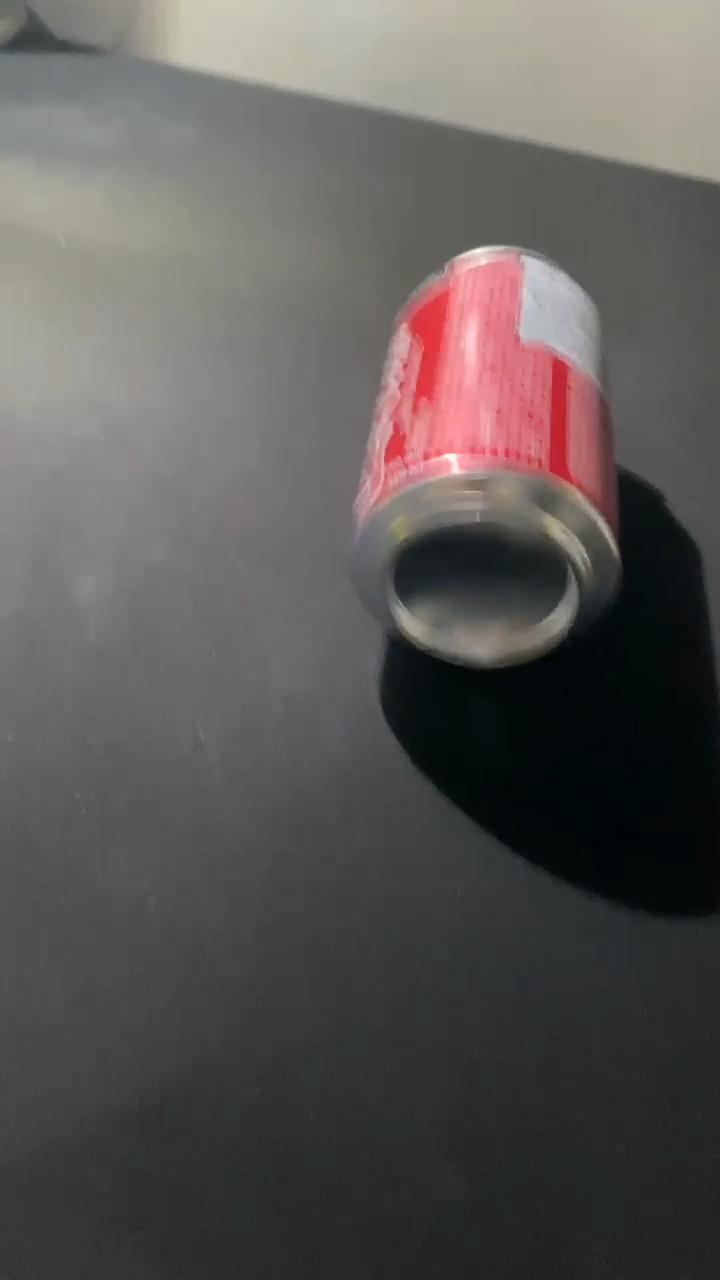coke: (344, 248, 632, 673)
